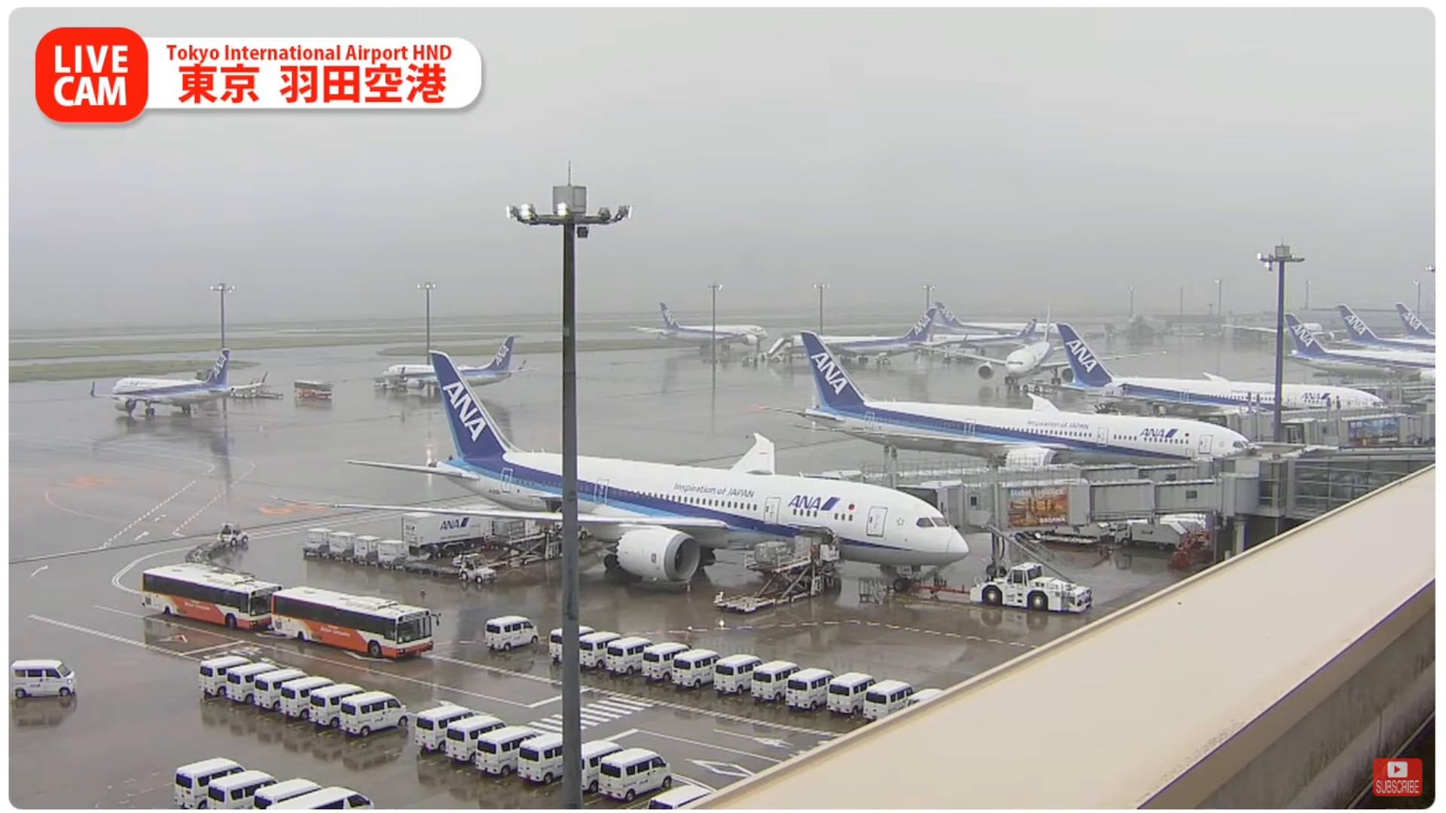APS: (968, 562, 1094, 614)
Aerobridge: (892, 474, 1261, 535), (796, 455, 1210, 487)
Airplane: (270, 351, 970, 592)
Catering: (400, 500, 512, 550)
Dolly: (305, 544, 463, 580), (185, 541, 233, 571)
JCPL: (711, 554, 833, 609), (455, 521, 563, 567)
Tractor: (458, 552, 497, 585), (217, 521, 251, 546)
Window: (1292, 458, 1433, 516)
